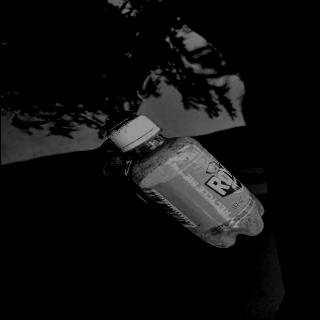bottle: (99, 114, 266, 250)
